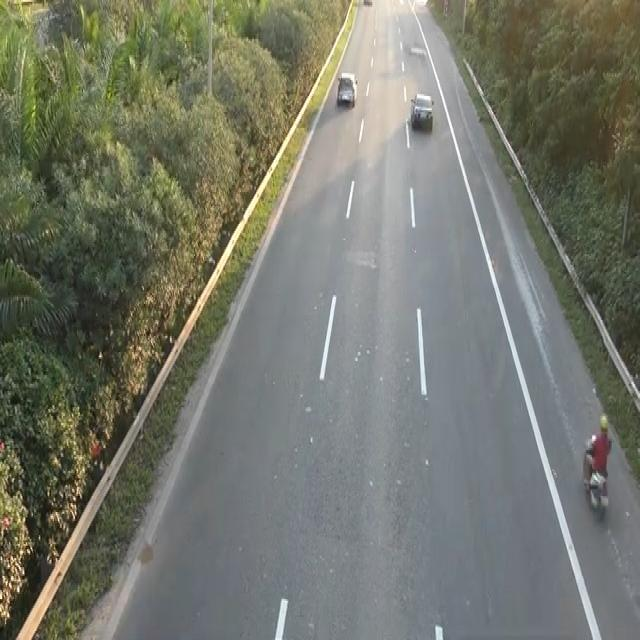bus: (408, 89, 437, 137), (335, 69, 358, 107)
minibus: (581, 437, 610, 519)
